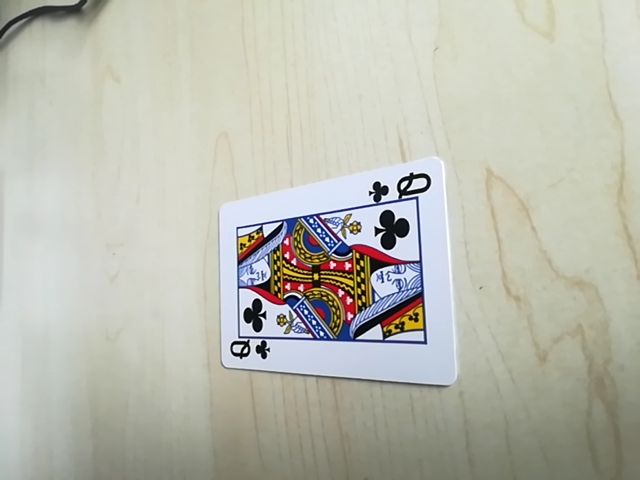mh q: (368, 168, 435, 203), (222, 335, 272, 366)
